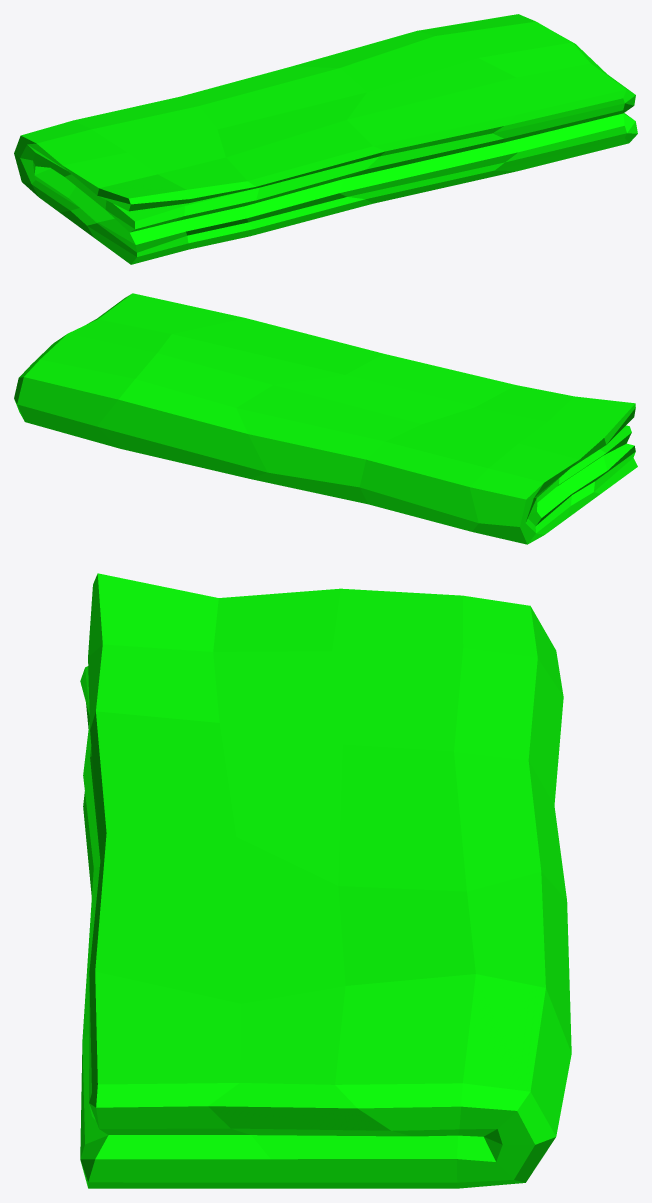
Rendered from SM_Fabric_Folded_Wide.fbx.
The picture shows the model from 3 angles, top to bottom: view 1: azimuth 30°, elevation 25°; view 2: azimuth 150°, elevation 25°; view 3: azimuth 270°, elevation 25°; orthographic projection. The views are drawn at different scales.
Parts seen in each view (by area): view 1: fabric-folded-wide; view 2: fabric-folded-wide; view 3: fabric-folded-wide.
Part boxes in pixels (<box>): fabric-folded-wide: <box>14,14,637,264</box>; fabric-folded-wide: <box>14,293,637,544</box>; fabric-folded-wide: <box>80,573,571,1188</box>.
Bounding box in the file's own units: 0.8537 × 0.1025 × 0.3514.
